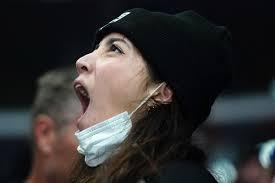Wore Mask Incorrectly: (73, 10, 227, 170)
